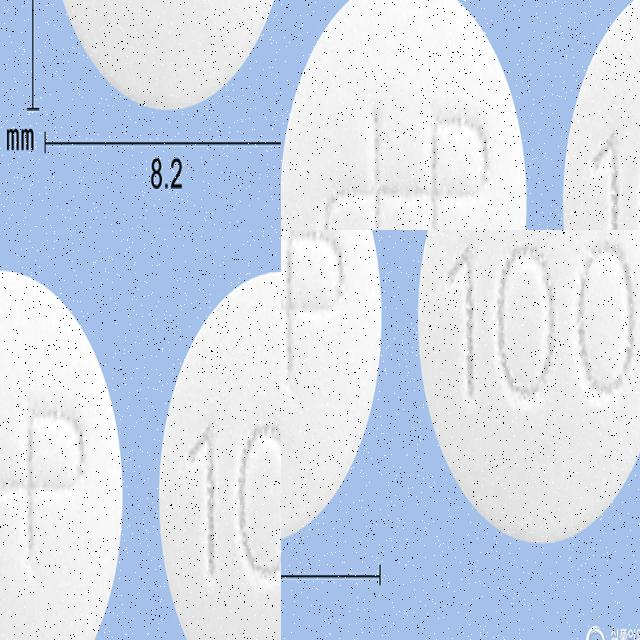Boryung Nitrofurantoin: (498, 0, 640, 196)
Carbastar: (413, 230, 640, 547), (281, 230, 385, 551)
Clafacin: (0, 527, 240, 640)
Claycin: (40, 0, 281, 116)
